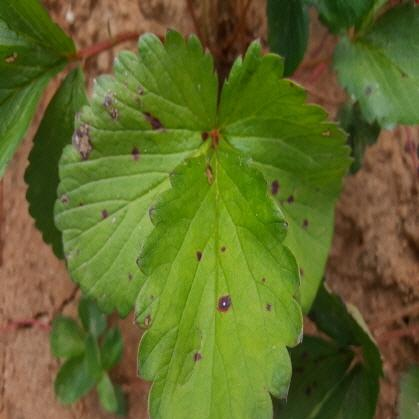Leaf Spot: (132, 132, 304, 418), (53, 28, 217, 318), (216, 36, 355, 316), (331, 1, 418, 130)
